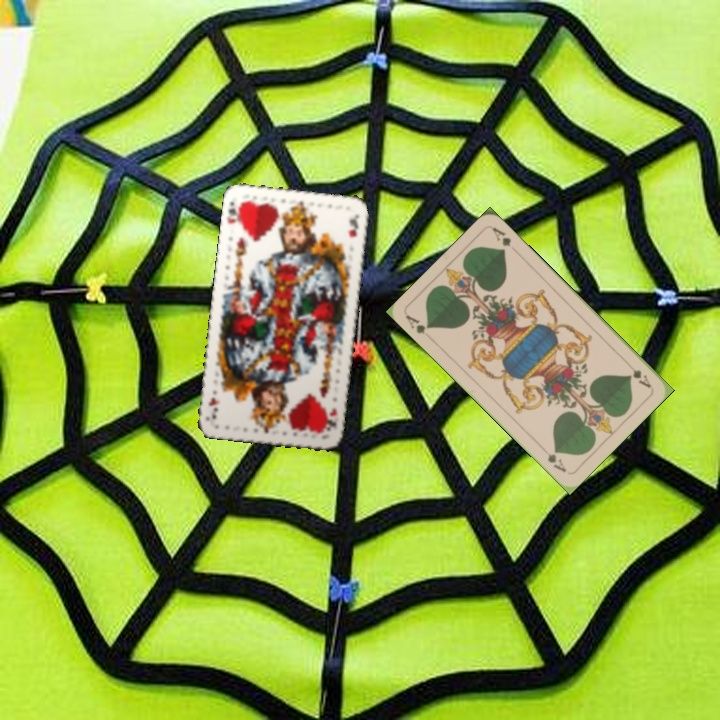GA: (622, 359, 653, 391), (402, 311, 434, 337)
HK: (223, 195, 246, 227), (320, 404, 340, 435)
